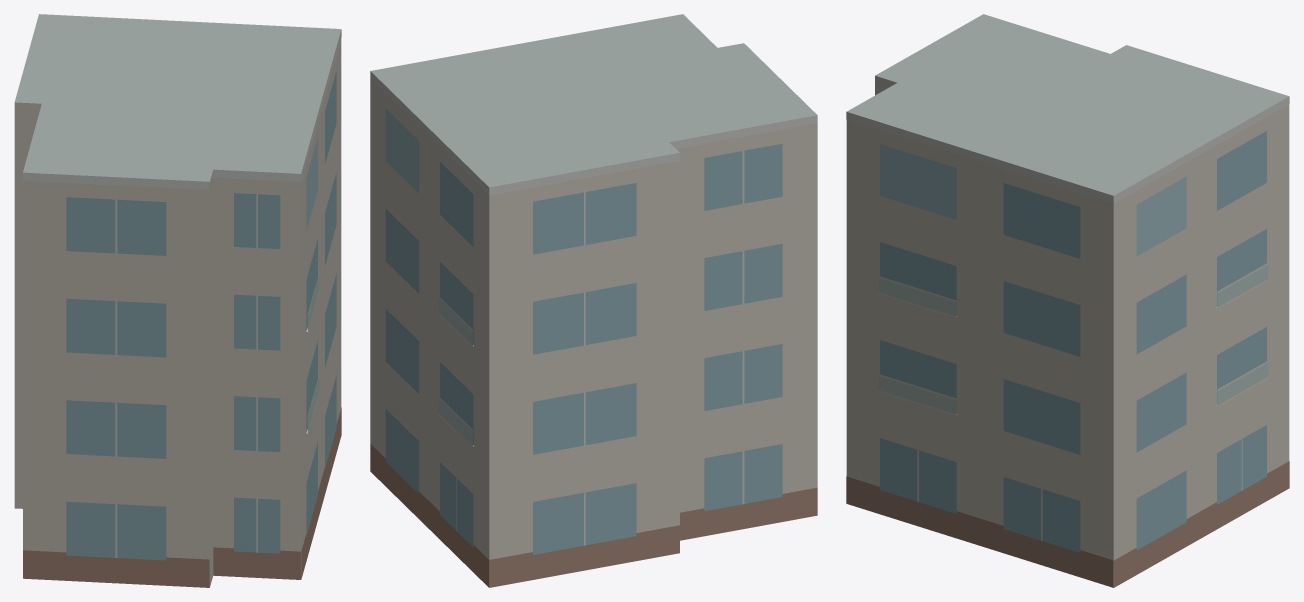
Rendered from residential-f74cf183-363b-4be6-b73c-bf3c8e53ae8b.glb.
The picture shows the model from 3 angles, left to right: view 1: azimuth 30°, elevation 25°; view 2: azimuth 150°, elevation 25°; view 3: azimuth 270°, elevation 25°; orthographic projection. The views are drawn at different scales.
Parts seen in each view (by area): view 1: residential-f74cf183-363b-4be6-b73c-bf3c8e53ae8b.tmp; view 2: residential-f74cf183-363b-4be6-b73c-bf3c8e53ae8b.tmp; view 3: residential-f74cf183-363b-4be6-b73c-bf3c8e53ae8b.tmp.
Part boxes in pixels (x1,y1,x2,y2): residential-f74cf183-363b-4be6-b73c-bf3c8e53ae8b.tmp: (14,14,341,587); residential-f74cf183-363b-4be6-b73c-bf3c8e53ae8b.tmp: (370,14,817,587); residential-f74cf183-363b-4be6-b73c-bf3c8e53ae8b.tmp: (846,14,1289,587).
Bounding box in the file's own units: 12.15 × 12.2 × 12.5.
